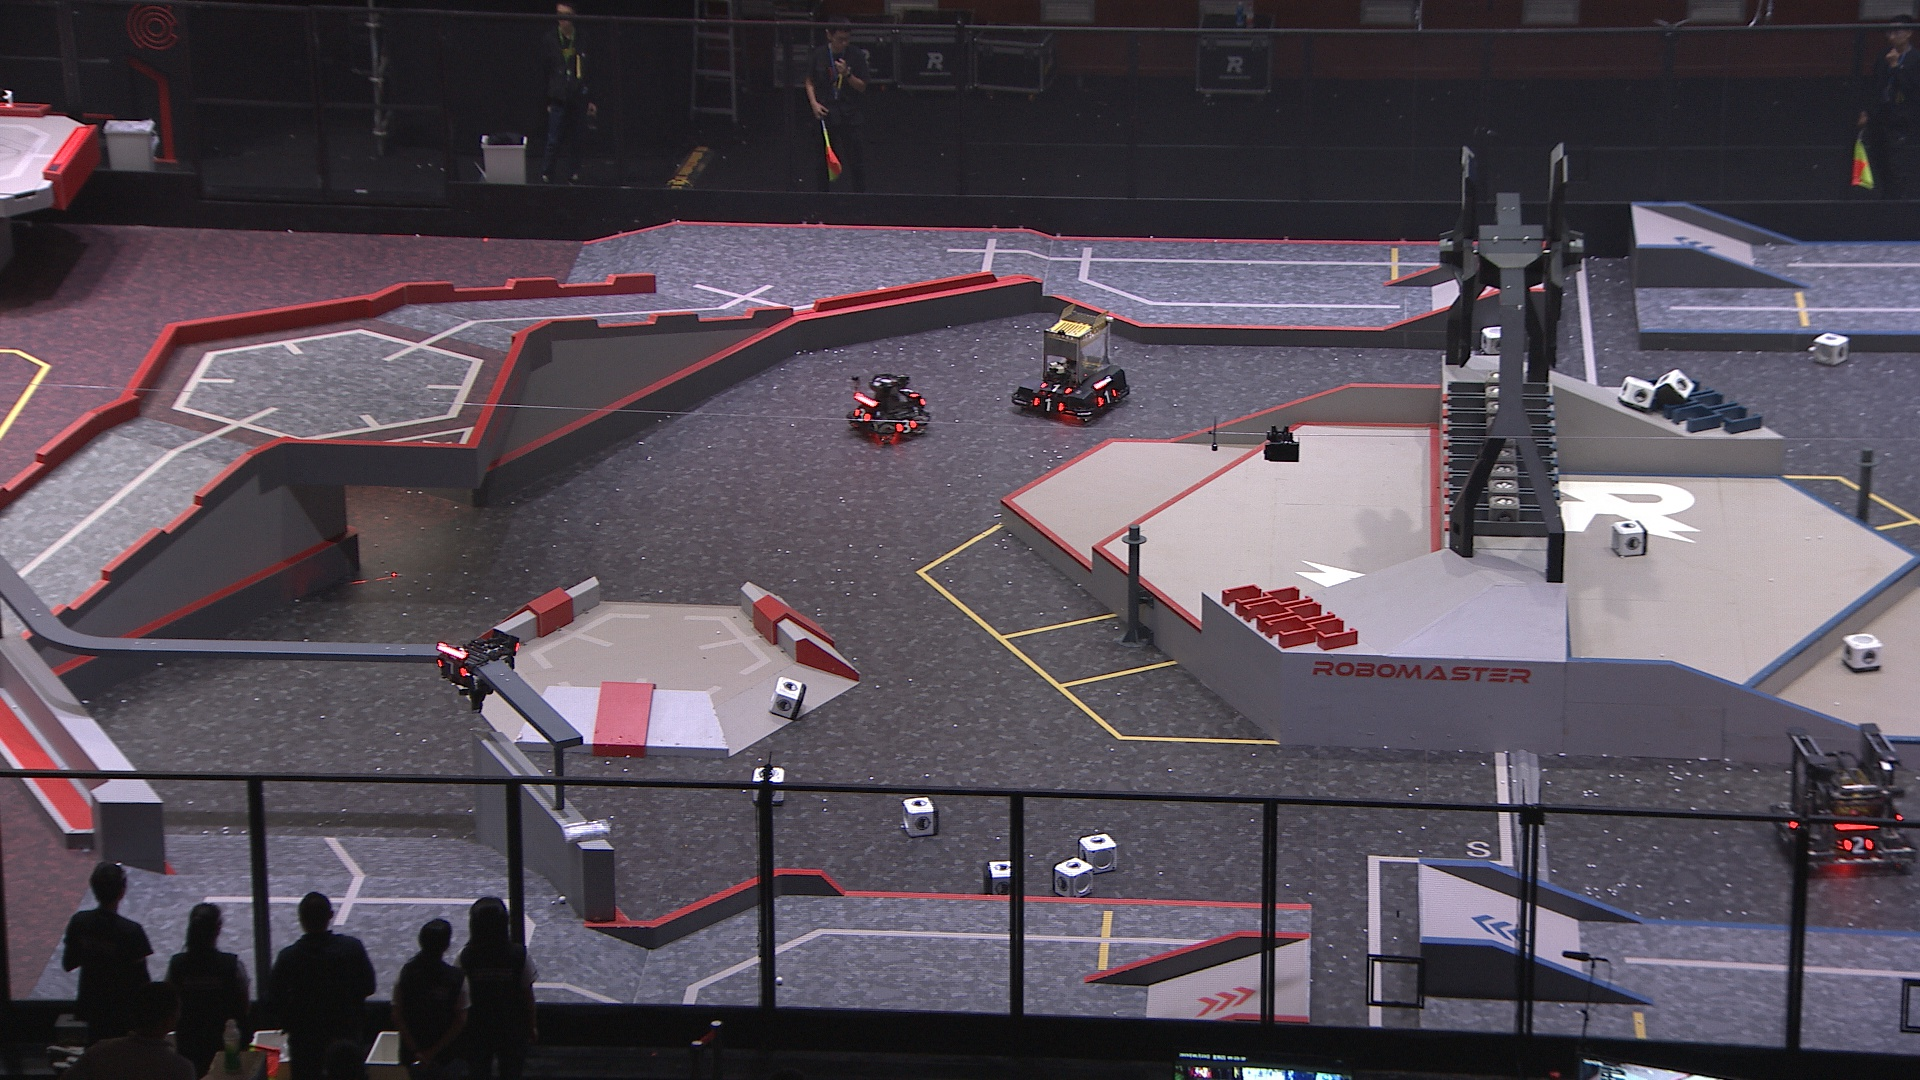armor: (436, 654, 465, 680), (1841, 833, 1874, 856), (1030, 394, 1067, 414), (1040, 376, 1073, 396), (891, 417, 920, 436), (851, 404, 874, 427), (898, 384, 923, 404), (1096, 386, 1120, 406)
car: (1764, 717, 1917, 877), (1006, 305, 1135, 427), (847, 371, 934, 447)
watcher: (433, 626, 522, 716)
